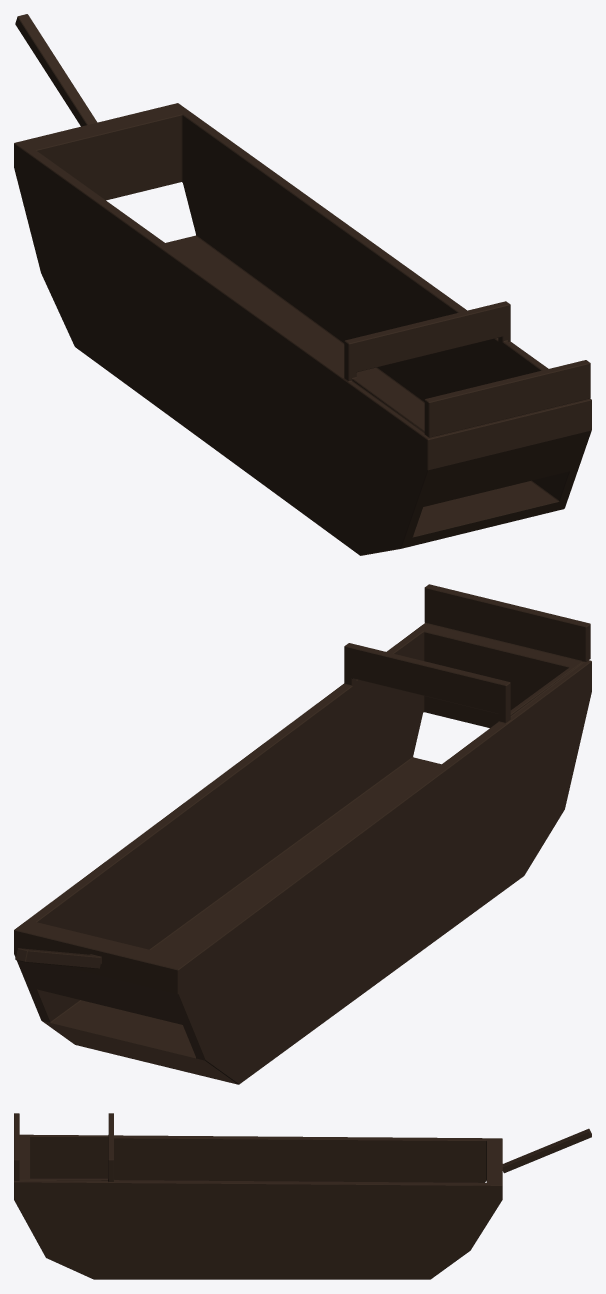
The model's file is ship_hull.fbx.
The picture shows the model from 3 angles, top to bottom: view 1: azimuth 30°, elevation 25°; view 2: azimuth 150°, elevation 25°; view 3: azimuth 270°, elevation 25°; orthographic projection. The views are drawn at different scales.
Visible parts, largest first — view 1: ship_hull; view 2: ship_hull; view 3: ship_hull.
Boxes of the visible parts, box(x1,y1,x2,y2) form: ship_hull: box(14, 14, 591, 555); ship_hull: box(14, 584, 591, 1084); ship_hull: box(14, 1113, 591, 1279).
Bounding box in the file's own units: 1400 × 1739 × 7216.
